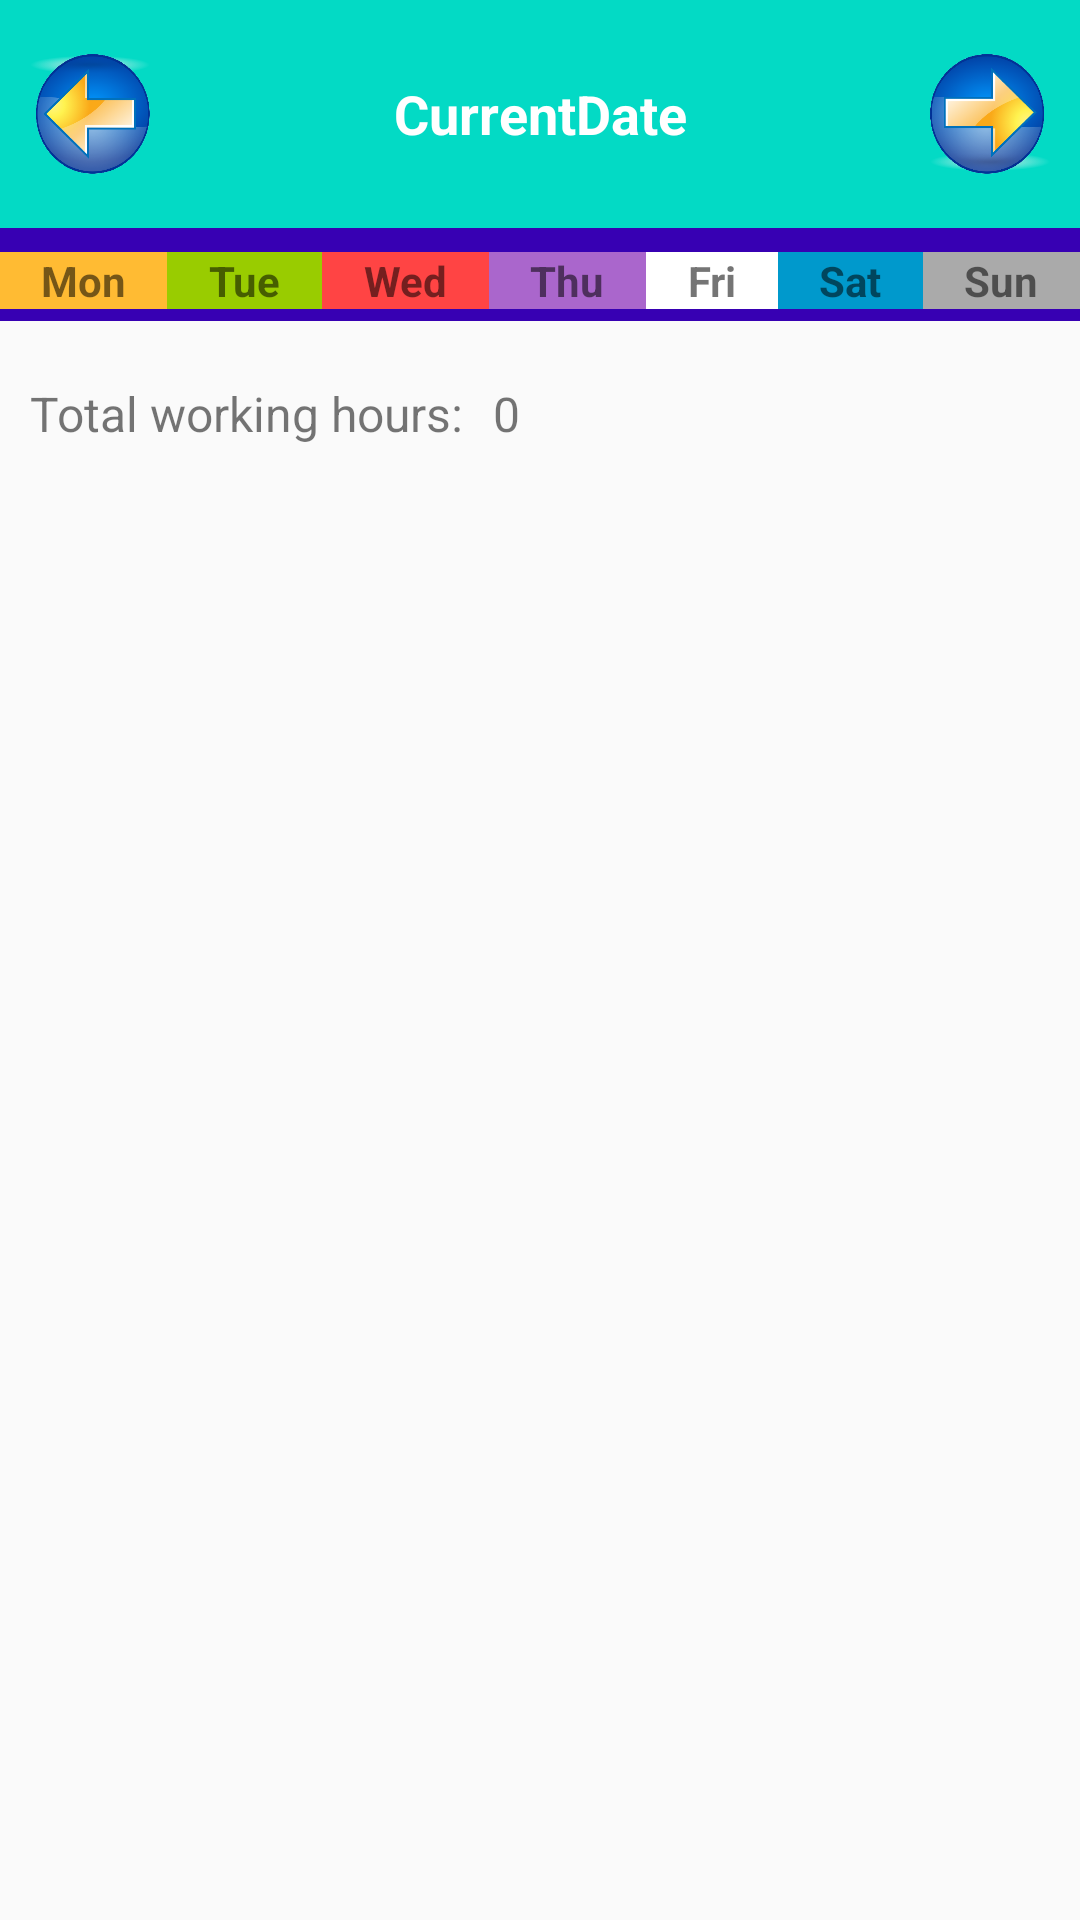

Icon click points for this 1080 × 1920 phone screenshot, format [x,y]:
nextbtn: [987,114]
prevbtn: [93,114]
